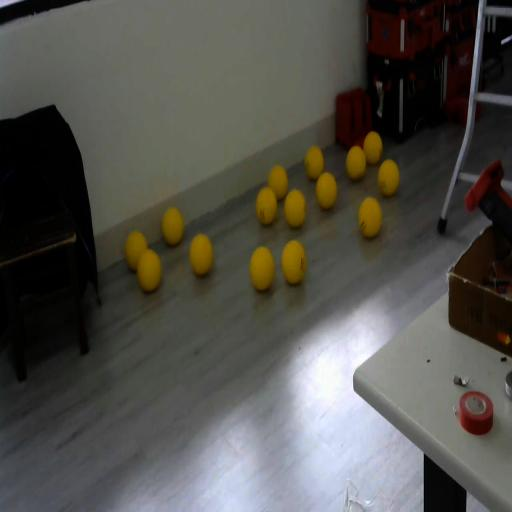FUEL: (248, 245, 275, 293), (136, 246, 162, 294), (188, 232, 214, 278), (357, 195, 383, 239), (281, 240, 306, 284), (283, 188, 307, 229), (254, 186, 278, 226), (376, 158, 400, 196), (267, 164, 289, 202), (316, 172, 338, 210), (162, 207, 184, 245), (304, 145, 324, 181), (346, 144, 366, 180), (363, 130, 383, 165)
